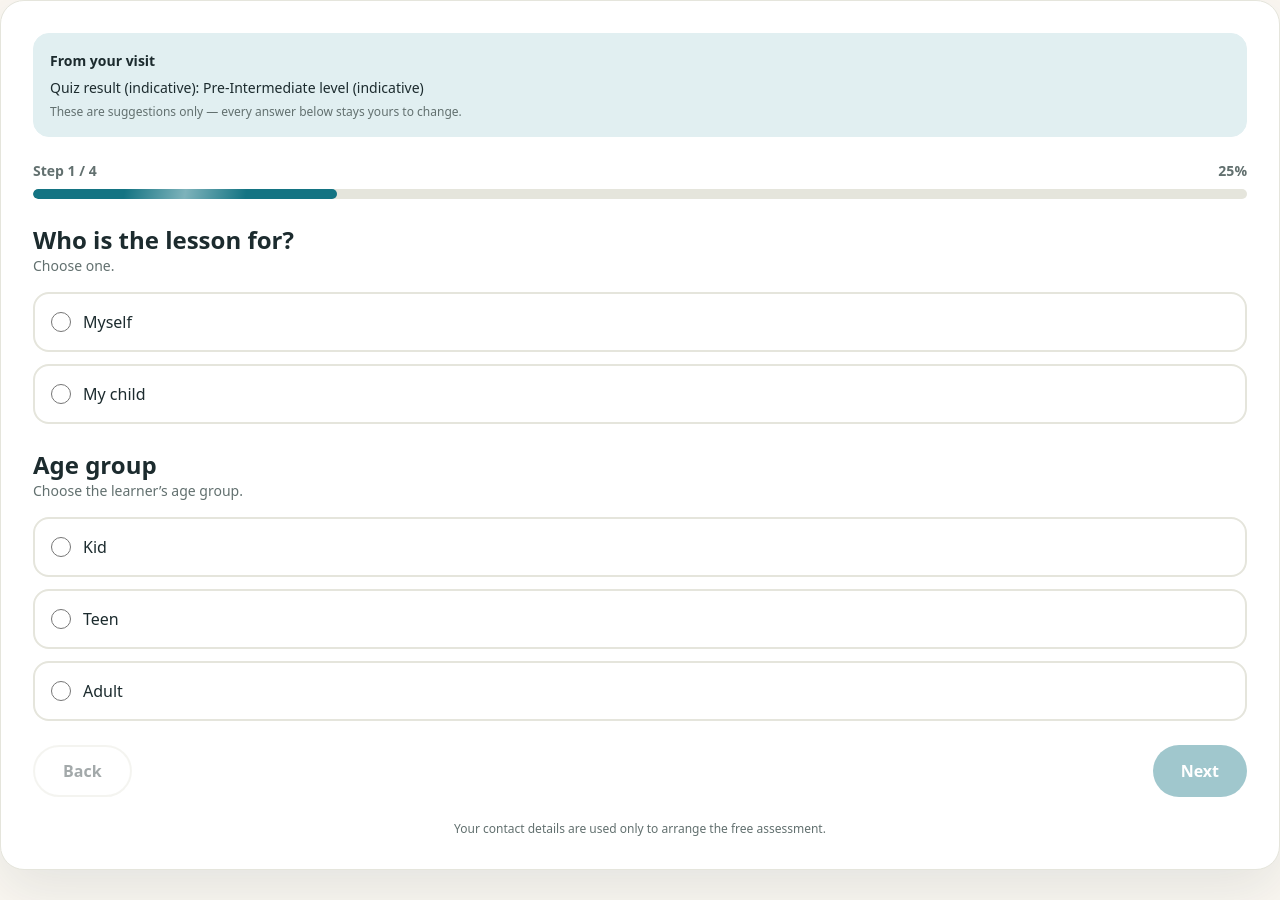
Test: AssessmentForm booking context › shows the quiz band as separate guidance without touching the level estimate
Expected: the list item "Quiz result (indicative)" is shown, 50,78 -> 199,97
Expected: the list item "Pre-Intermediate" is shown, 203,78 -> 424,97
What coordinates should you click on to do the following:
click the radio button labelled "Myself"
I would click on:
 (61, 322)
Its box is 51,312 -> 71,332.
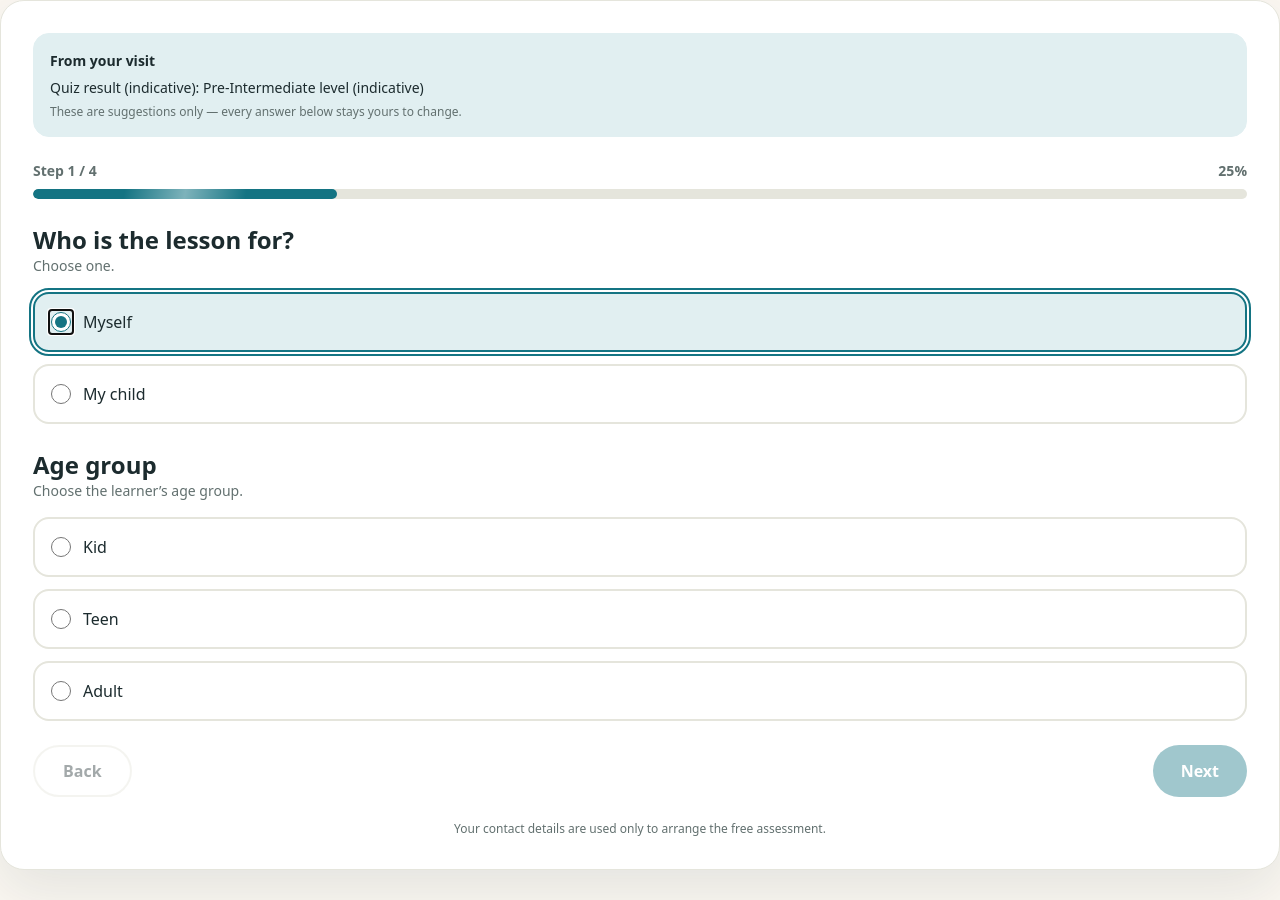
What coordinates should you click on to do the following:
click the radio button labelled "Kid"
I would click on:
 (61, 546)
Its box is 51,536 -> 71,556.
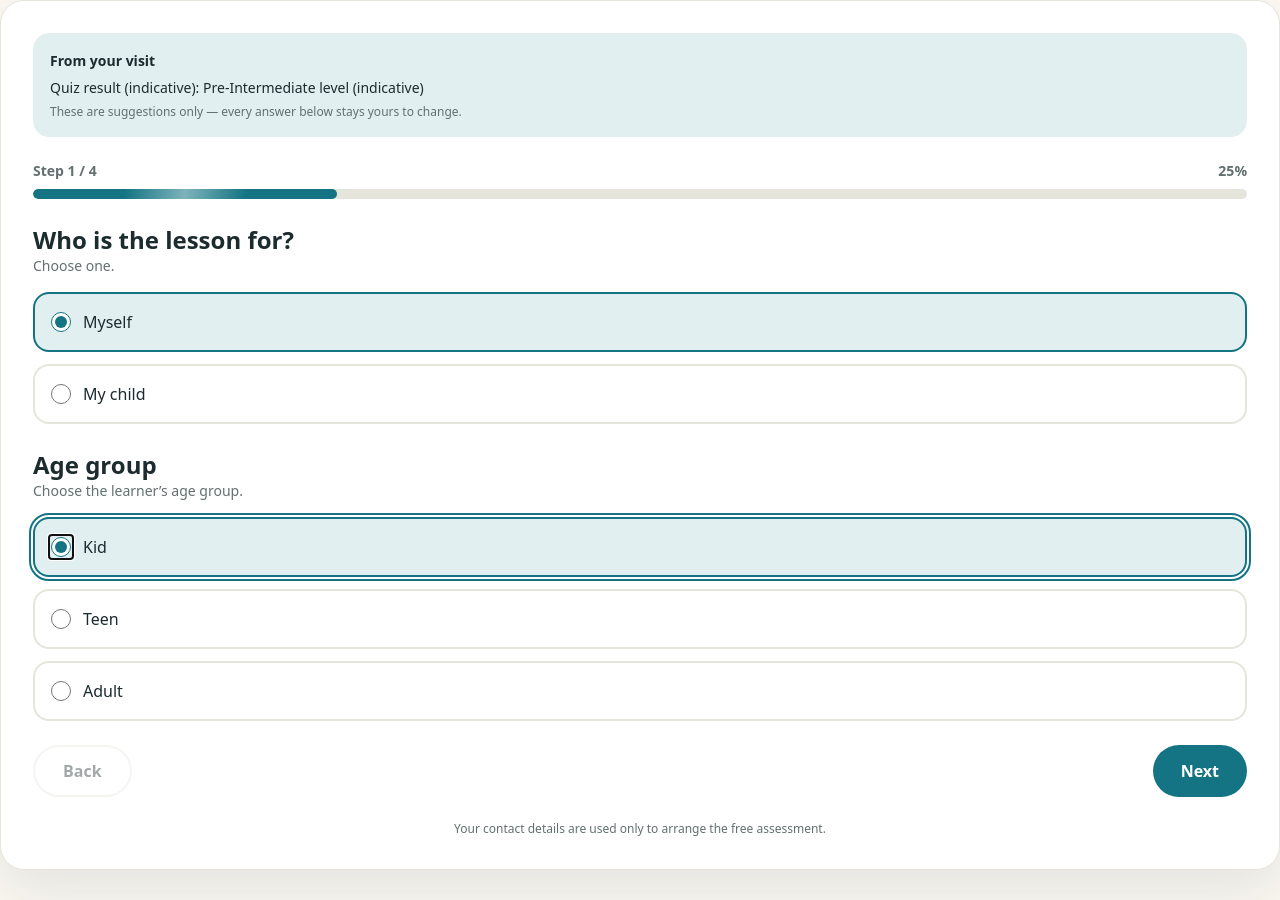
What coordinates should you click on to do the following:
click the button "Next"
I would click on:
 (1200, 770)
Its box is 1153,744 -> 1247,796.
(page scrolled)
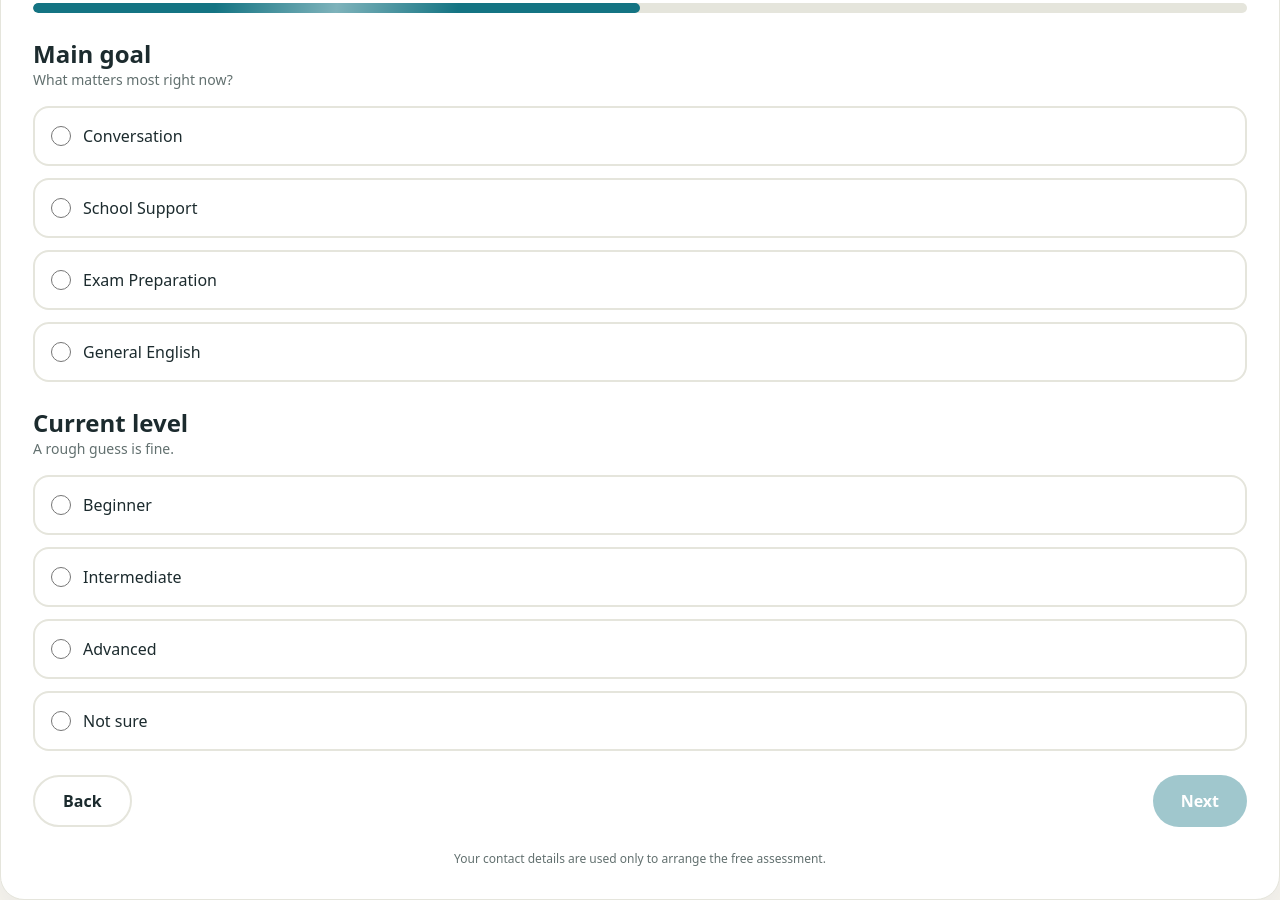
Expected: the radio button labelled "Beginner" is not checked, 51,494 -> 71,514
Expected: the radio button labelled "Intermediate" is not checked, 51,566 -> 71,586
Expected: the radio button labelled "Advanced" is not checked, 51,638 -> 71,658
